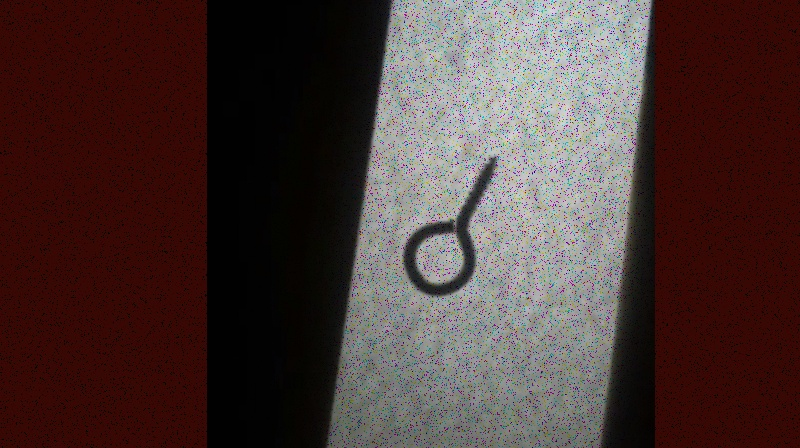O001: (395, 152, 499, 302)
